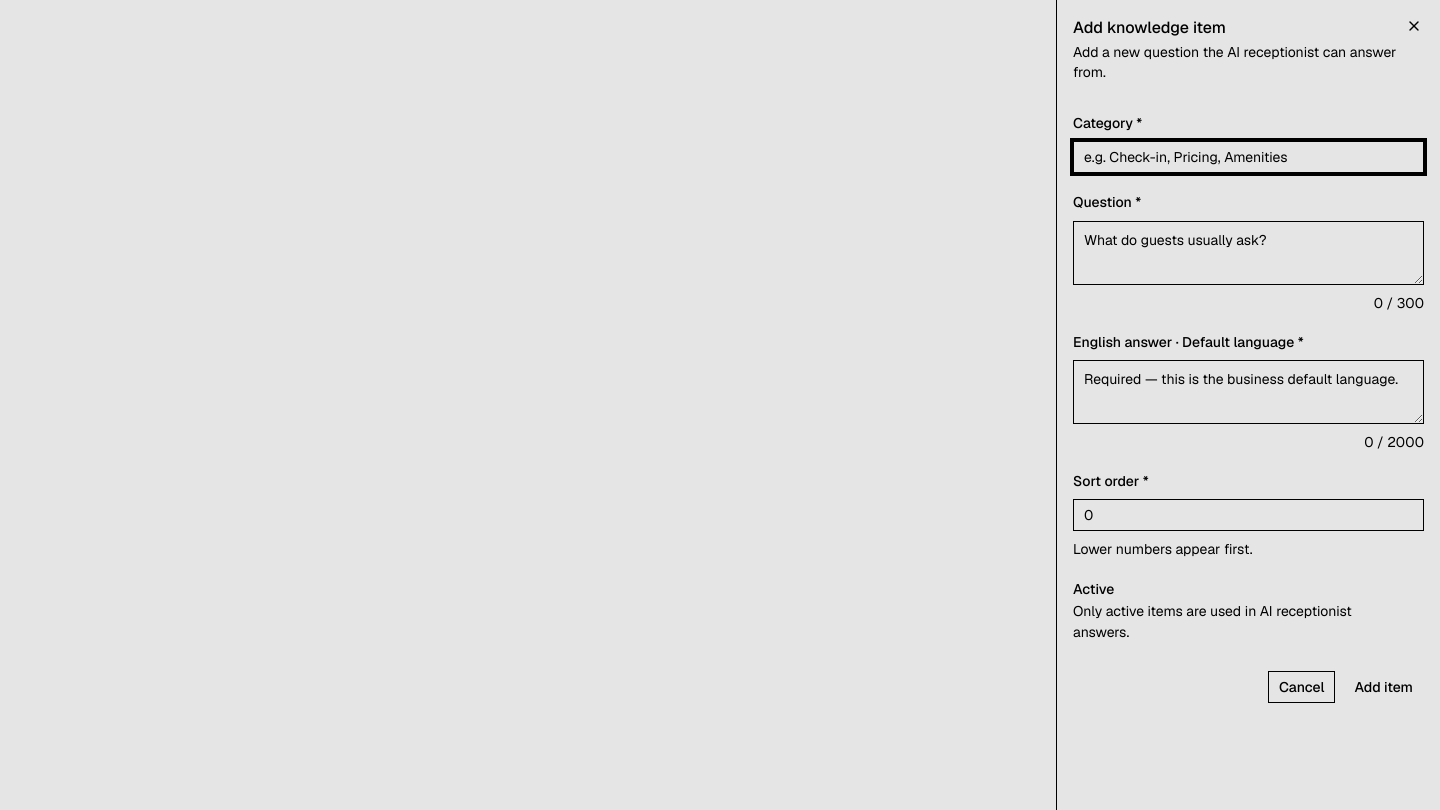
Test: KnowledgeItemSheet — create › keeps the sheet open and the typed values in place after a failed submission
Type "Check-in" into the field labelled "Category *" at (1248, 157), box [1073, 141, 1424, 173]
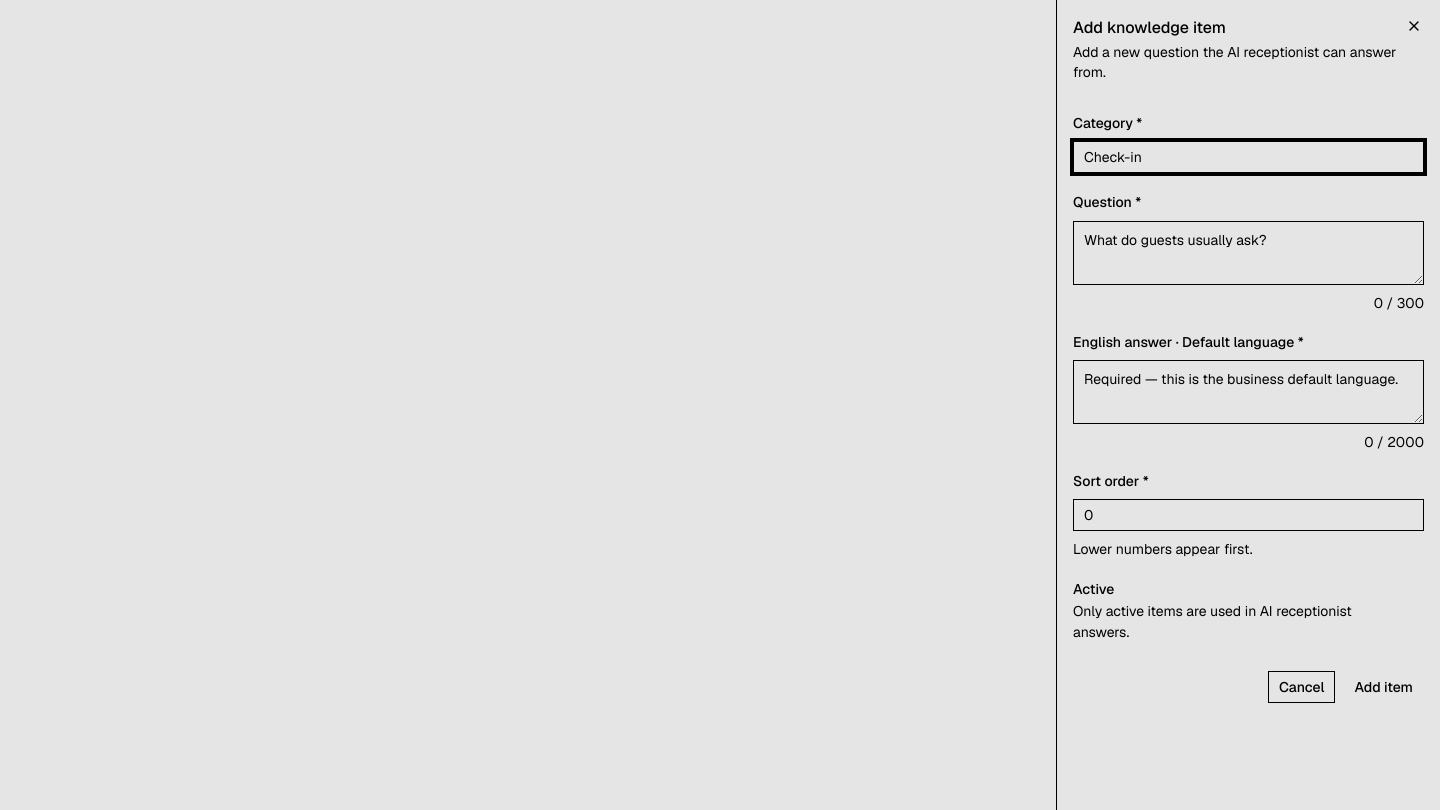
Type "What time?" into the text box labelled "Question *" at (1248, 252), box [1073, 220, 1424, 284]
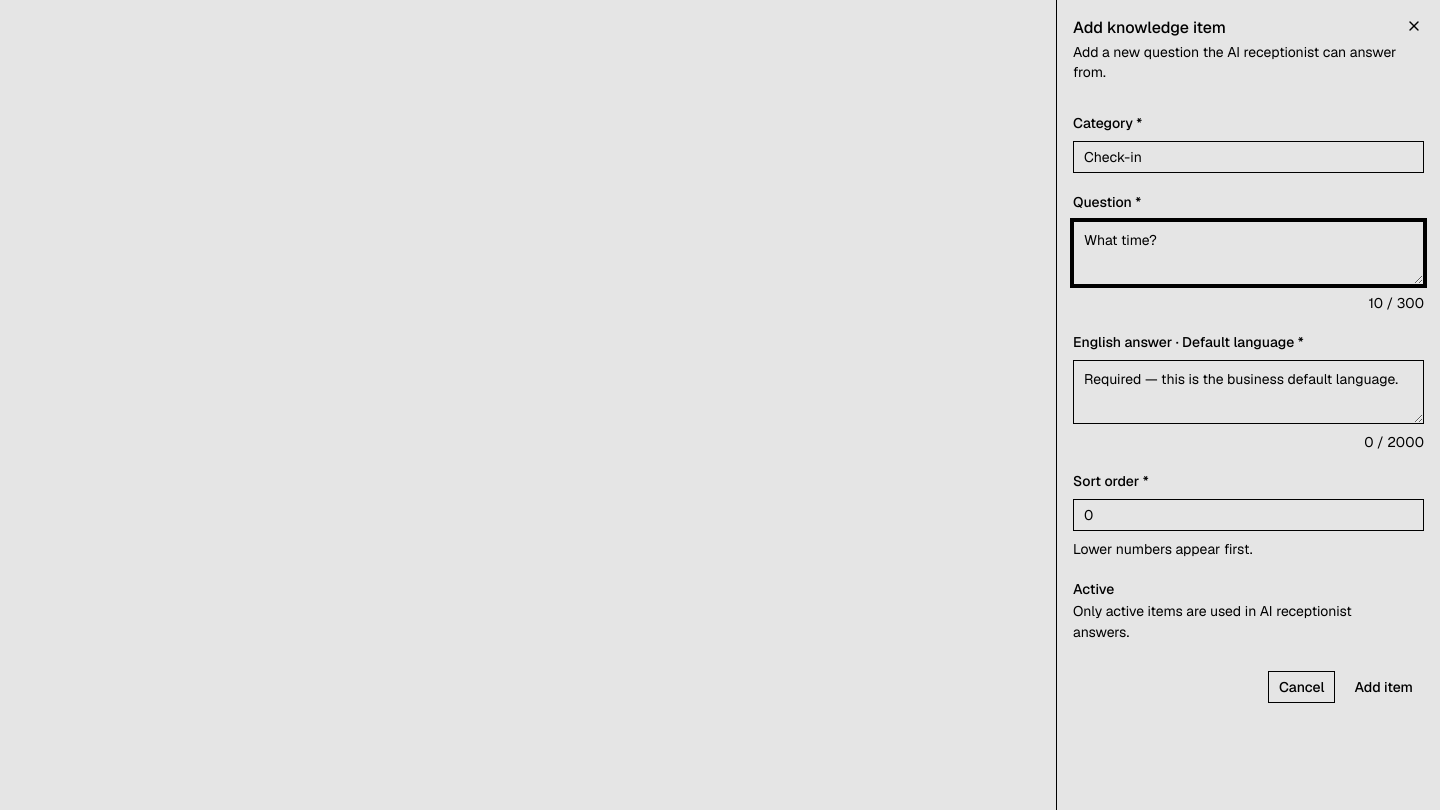
Type "3pm" into the text box labelled "English answer · Default language *" at (1248, 392), box [1073, 360, 1424, 424]
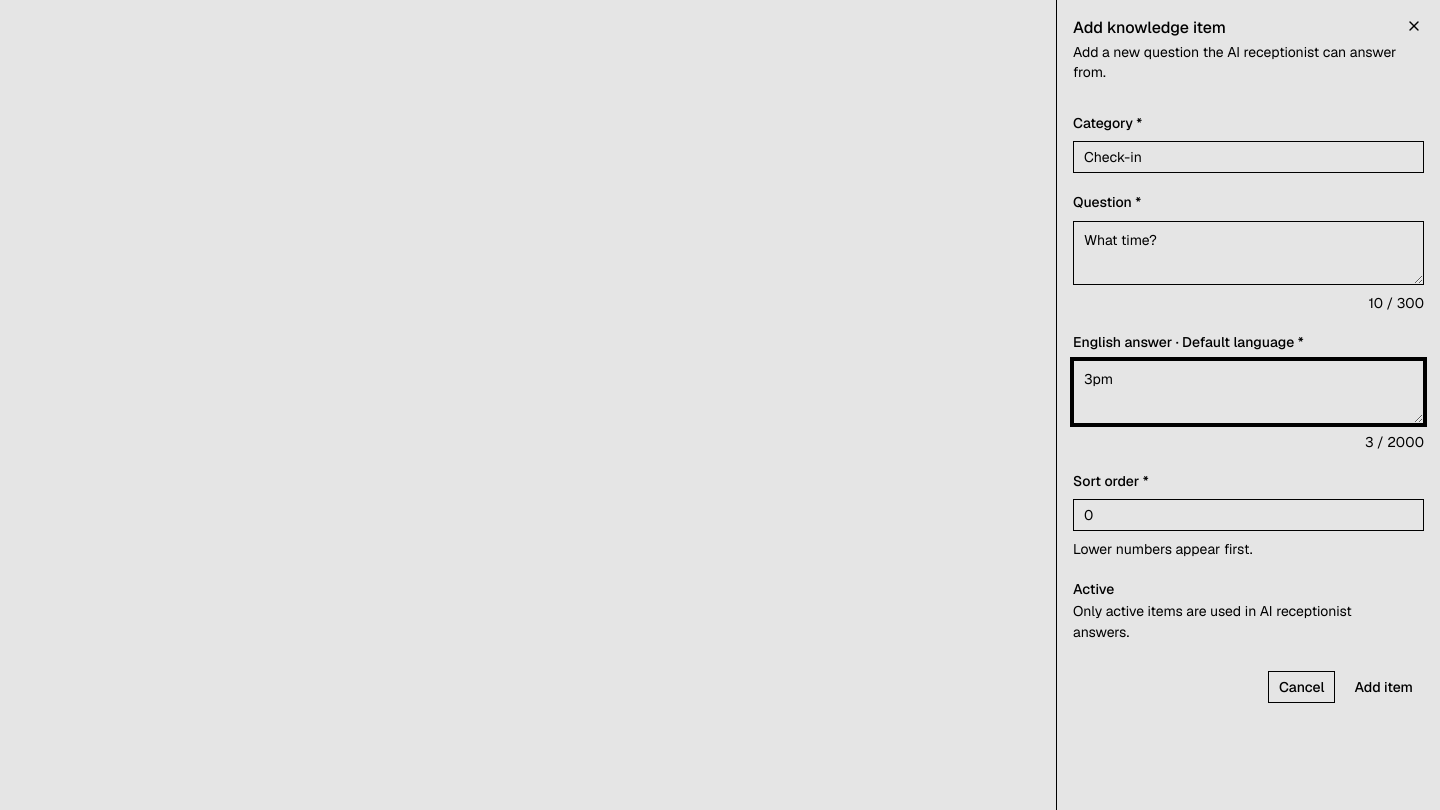
Click the button "Add item" at (1384, 687), box [1343, 671, 1424, 703]
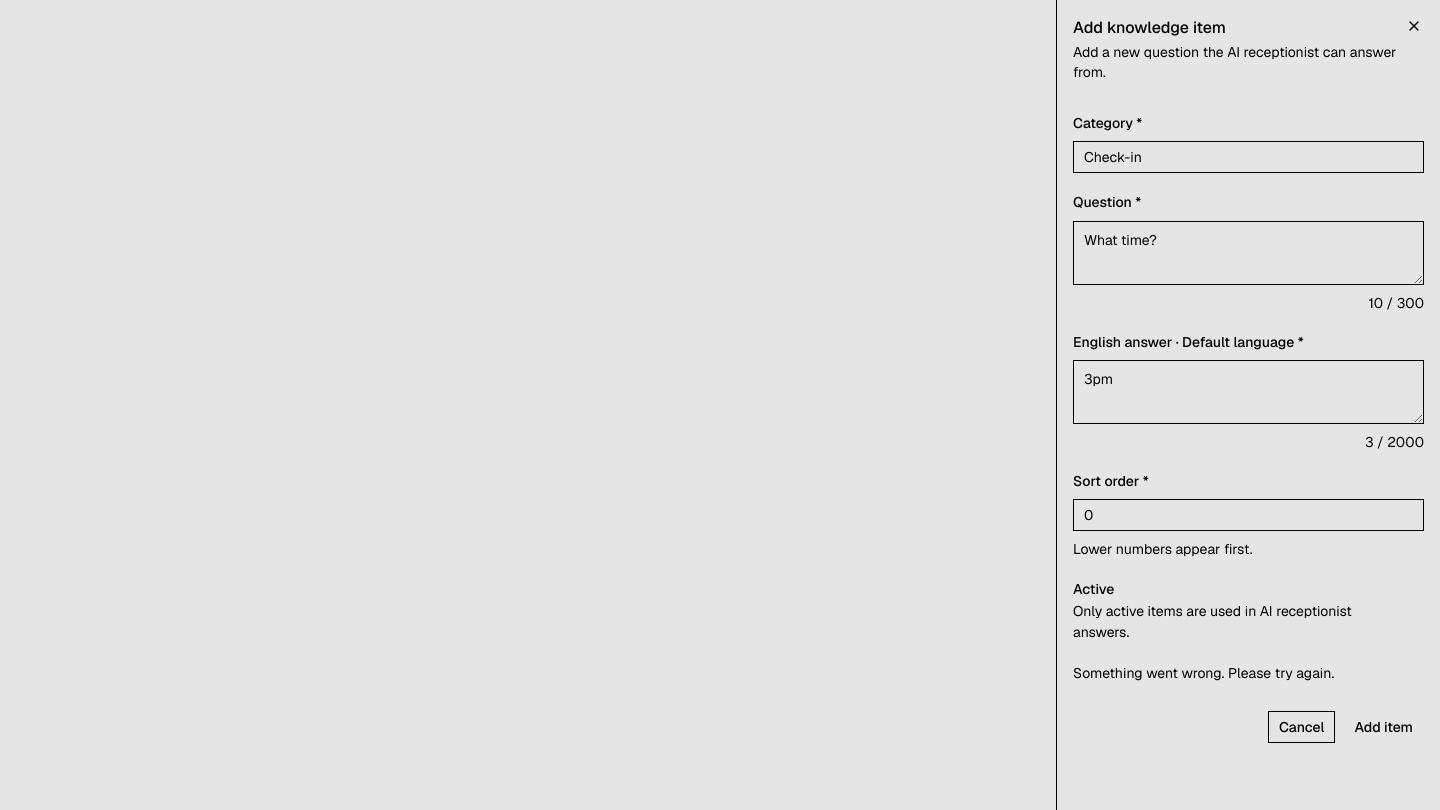
Now the text "Something went wrong. Please try again." is shown, box [1073, 664, 1334, 682]
